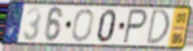0: (96, 8, 118, 44)
3: (22, 6, 43, 42)
6: (42, 6, 66, 44)
D: (144, 8, 171, 46)
O: (70, 8, 95, 44)
P: (121, 8, 149, 46)
